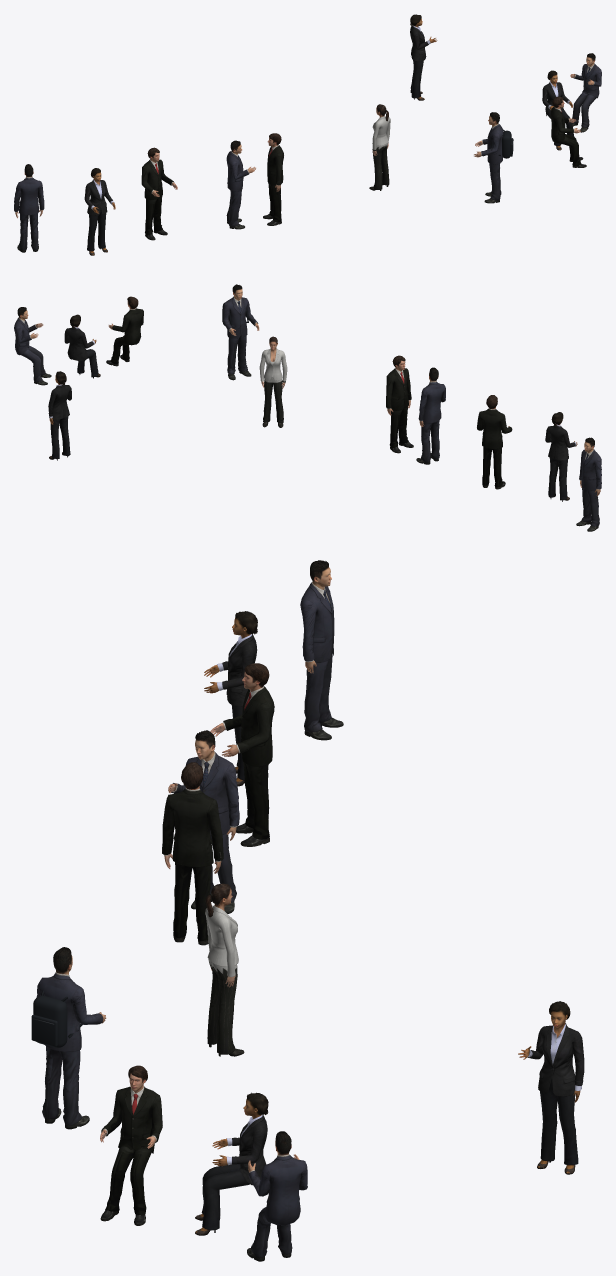
File: projection-visitors-v5.glb
3 views of the same model, one above another, from view 1: azimuth 30°, elevation 25°; view 2: azimuth 150°, elevation 25°; view 3: azimuth 270°, elevation 25° (orthographic). The views are drawn at different scales.
Visible parts, largest first — view 1: Projection visitor | Business_Male_02 | idle part 0, Projection visitor | Business_Male_01 | operator part 0, Projection visitor | Business_Female_01 | operator part 0, Projection visitor | Business_Male_02 | projection-seated pa, Projection visitor | Business_Male_01 | idle part 0, Projection visitor | Business_Male_02 | operator part 0, Projection visitor | Business_Male_02 | talk part 0, Projection visitor | Business_Female_04 | idle part 0, Projection visitor | Business_Male_01 | projection-seated pa, Projection visitor | Business_Female_01 | talk part 0, Projection visitor | Business_Female_01 | projection-seated ; view 2: Projection visitor | Business_Male_02 | operator part 0, Projection visitor | Business_Male_01 | idle part 0, Projection visitor | Business_Male_01 | operator part 0, Projection visitor | Business_Male_02 | talk part 0, Projection visitor | Business_Female_04 | idle part 0, Projection visitor | Business_Male_02 | idle part 0, Projection visitor | Business_Female_01 | operator part 0, Projection visitor | Business_Female_01 | talk part 0, Projection visitor | Business_Male_01 | projection-seated pa, Projection visitor | Business_Male_02 | projection-seated pa, Projection visitor | Business_Female_01 | projection-seated ; view 3: Projection visitor | Business_Male_01 | idle part 0, Projection visitor | Business_Female_01 | talk part 0, Projection visitor | Business_Male_01 | operator part 0, Projection visitor | Business_Male_01 | projection-seated pa, Projection visitor | Business_Male_02 | operator part 0, Projection visitor | Business_Male_02 | idle part 0, Projection visitor | Business_Female_04 | idle part 0, Projection visitor | Business_Male_02 | projection-seated pa, Projection visitor | Business_Female_01 | projection-seated , Projection visitor | Business_Male_02 | talk part 0, Projection visitor | Business_Female_01 | operator part 0, Rocketbox fitted black backpack main body.
Boxes of the visible parts, x1,y1,x2,y2 form: Projection visitor | Business_Male_02 | idle part 0: [14, 164, 44, 252]; Projection visitor | Business_Male_01 | operator part 0: [141, 147, 177, 240]; Projection visitor | Business_Female_01 | operator part 0: [84, 168, 115, 255]; Projection visitor | Business_Male_02 | projection-seated pa: [570, 53, 601, 132]; Projection visitor | Business_Male_01 | idle part 0: [263, 133, 283, 225]; Projection visitor | Business_Male_02 | operator part 0: [474, 112, 503, 203]; Projection visitor | Business_Male_02 | talk part 0: [226, 140, 255, 229]; Projection visitor | Business_Female_04 | idle part 0: [369, 104, 390, 190]; Projection visitor | Business_Male_01 | projection-seated pa: [550, 96, 586, 167]; Projection visitor | Business_Female_01 | talk part 0: [410, 14, 437, 100]; Projection visitor | Business_Female_01 | projection-seated : [542, 70, 574, 150]; Projection visitor | Business_Male_02 | operator part 0: [223, 284, 259, 380]; Projection visitor | Business_Male_01 | idle part 0: [386, 355, 413, 453]; Projection visitor | Business_Male_01 | operator part 0: [477, 395, 512, 489]; Projection visitor | Business_Male_02 | talk part 0: [416, 367, 445, 464]; Projection visitor | Business_Female_04 | idle part 0: [259, 336, 287, 427]; Projection visitor | Business_Male_02 | idle part 0: [576, 437, 601, 531]; Projection visitor | Business_Female_01 | operator part 0: [545, 412, 577, 501]; Projection visitor | Business_Female_01 | talk part 0: [48, 371, 71, 460]; Projection visitor | Business_Male_01 | projection-seated pa: [106, 296, 143, 366]; Projection visitor | Business_Male_02 | projection-seated pa: [14, 307, 51, 385]; Projection visitor | Business_Female_01 | projection-seated : [64, 314, 100, 378]; Projection visitor | Business_Male_01 | idle part 0: [162, 762, 223, 945]; Projection visitor | Business_Female_01 | talk part 0: [518, 1001, 584, 1174]; Projection visitor | Business_Male_01 | operator part 0: [210, 663, 274, 846]; Projection visitor | Business_Male_01 | projection-seated pa: [100, 1065, 162, 1225]; Projection visitor | Business_Male_02 | operator part 0: [36, 947, 106, 1129]; Projection visitor | Business_Male_02 | idle part 0: [300, 560, 343, 740]; Projection visitor | Business_Female_04 | idle part 0: [205, 883, 244, 1056]; Projection visitor | Business_Male_02 | projection-seated pa: [247, 1131, 307, 1261]; Projection visitor | Business_Female_01 | projection-seated : [195, 1092, 268, 1235]; Projection visitor | Business_Male_02 | talk part 0: [168, 730, 239, 913]; Projection visitor | Business_Female_01 | operator part 0: [204, 611, 257, 786]; Rocketbox fitted black backpack main body: [33, 995, 67, 1047].
Size of the model in its own units: 12.17 by 1.78 by 5.08.
Materials: 14 (12 with a texture image).
